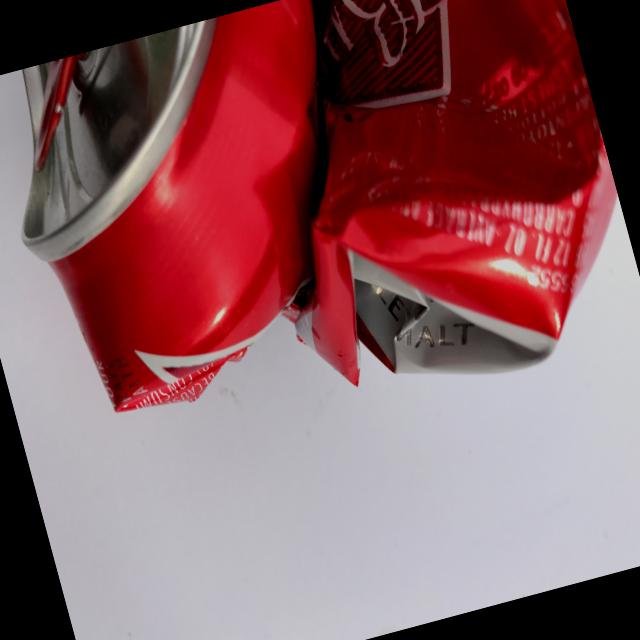Metal: (0, 0, 640, 508)
